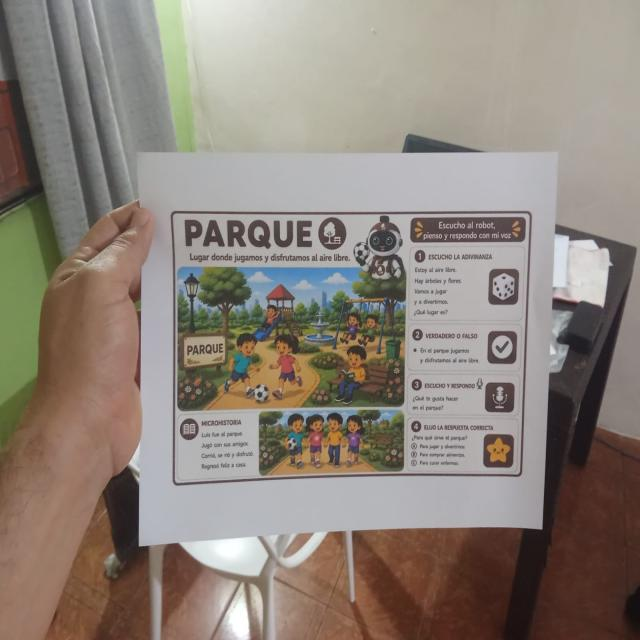parque: (167, 204, 536, 493)
